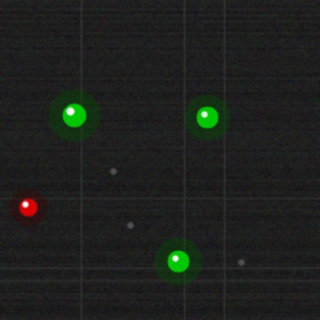green_normal: (60, 101, 88, 129), (165, 248, 191, 274), (194, 104, 220, 130)
red_fault: (17, 196, 39, 218)
